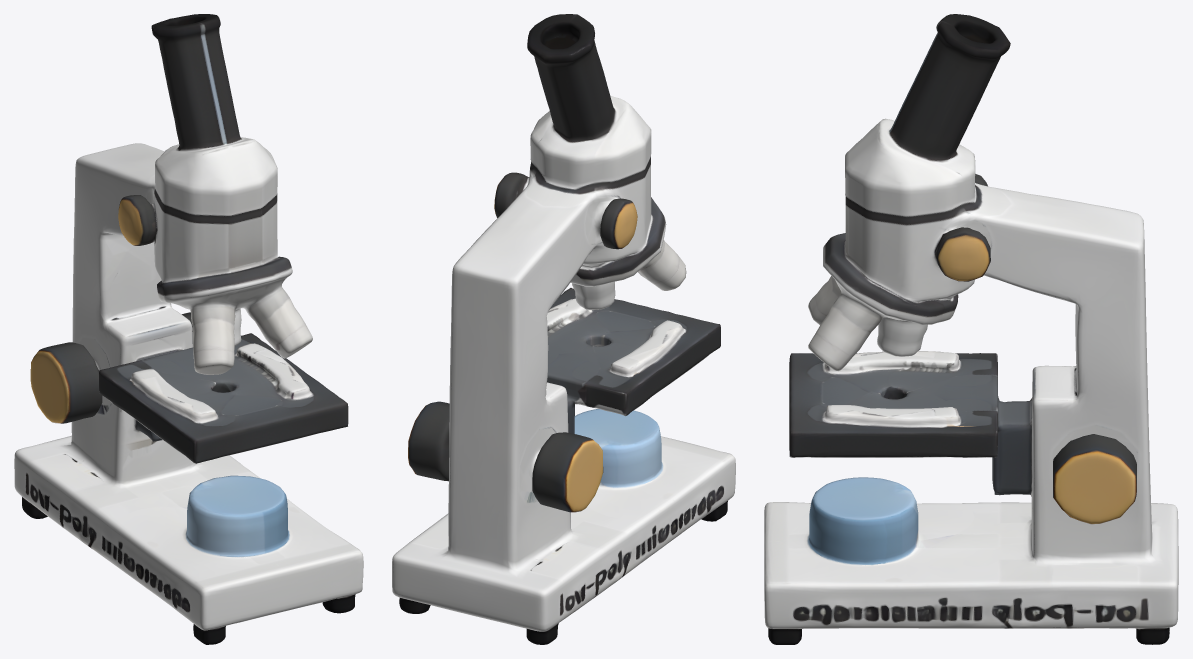
The model's file is base_basic_pbr.fbx.
3 renders of one model, left to right at view 1: azimuth 30°, elevation 25°; view 2: azimuth 150°, elevation 25°; view 3: azimuth 270°, elevation 25°, orthographic. The views are drawn at different scales.
Parts seen in each view (by area): view 1: model; view 2: model; view 3: model.
Boxes of the visible parts, left/top/right/bottom form: model: left=14, top=14, right=363, bottom=644; model: left=392, top=14, right=735, bottom=644; model: left=764, top=14, right=1178, bottom=644.
Bounding box in the file's own units: 59.62 × 191 × 122.
1 material, 1 textured.
